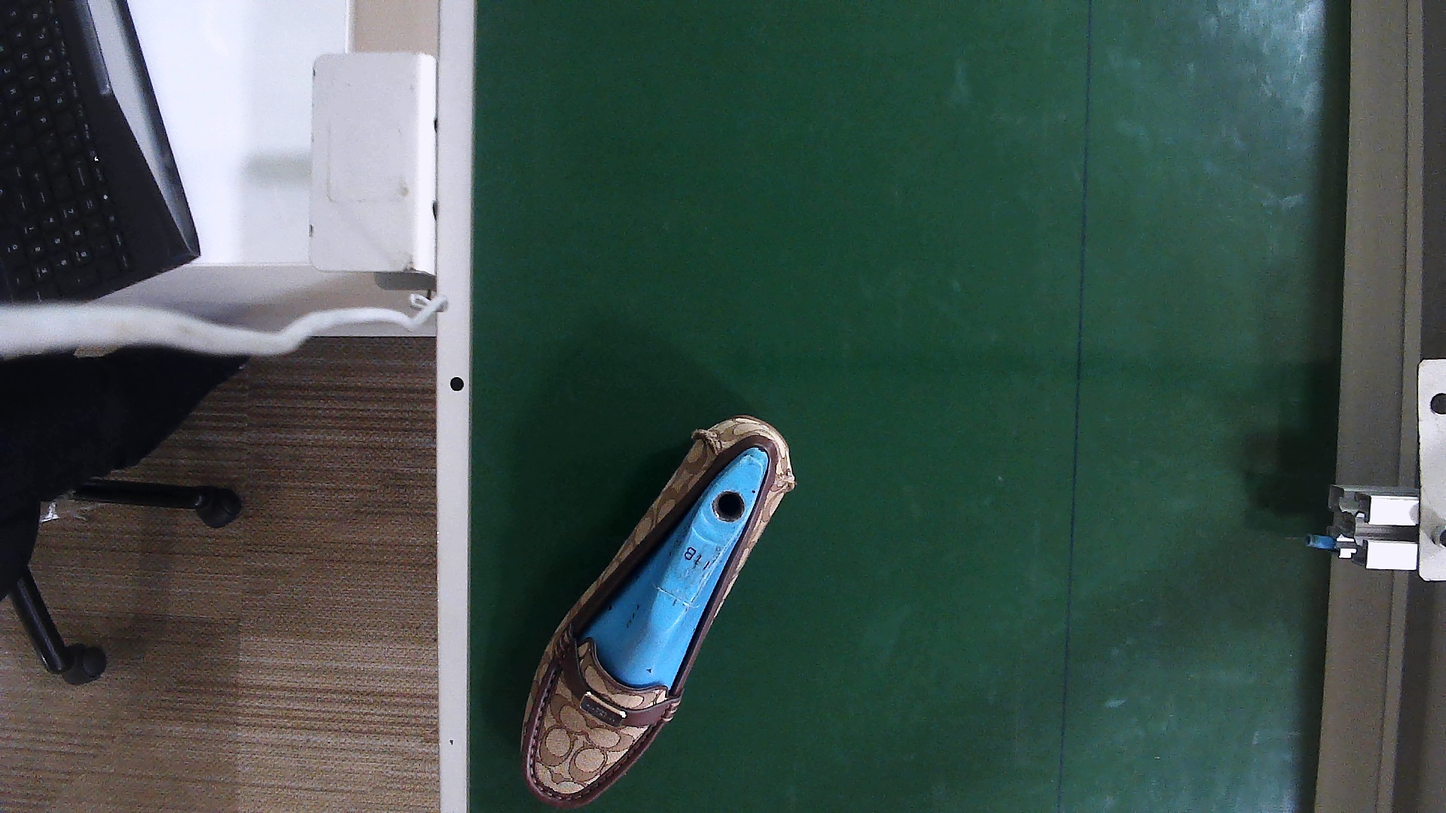shoe: (526, 419, 792, 805)
